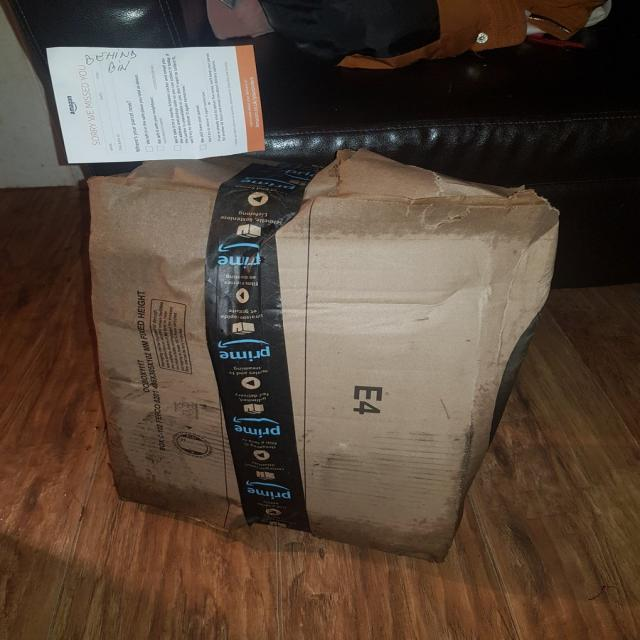wet: (100, 397, 236, 535), (305, 186, 555, 251), (307, 505, 457, 560)
